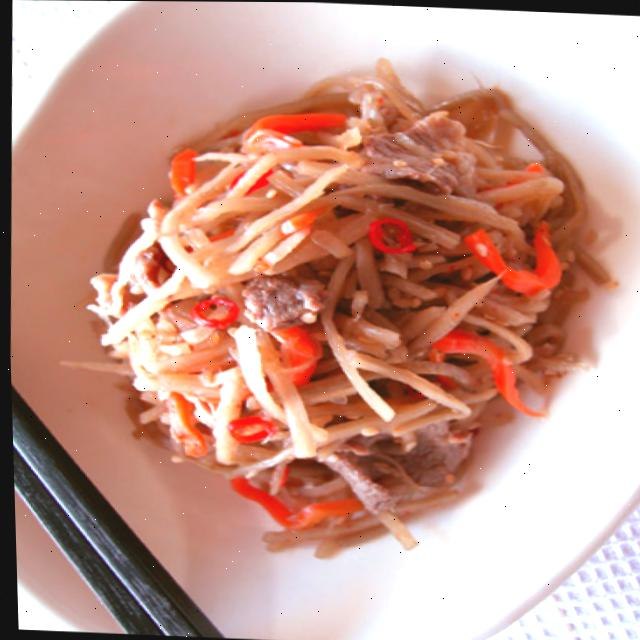蔬菜料理: (39, 7, 631, 588)
